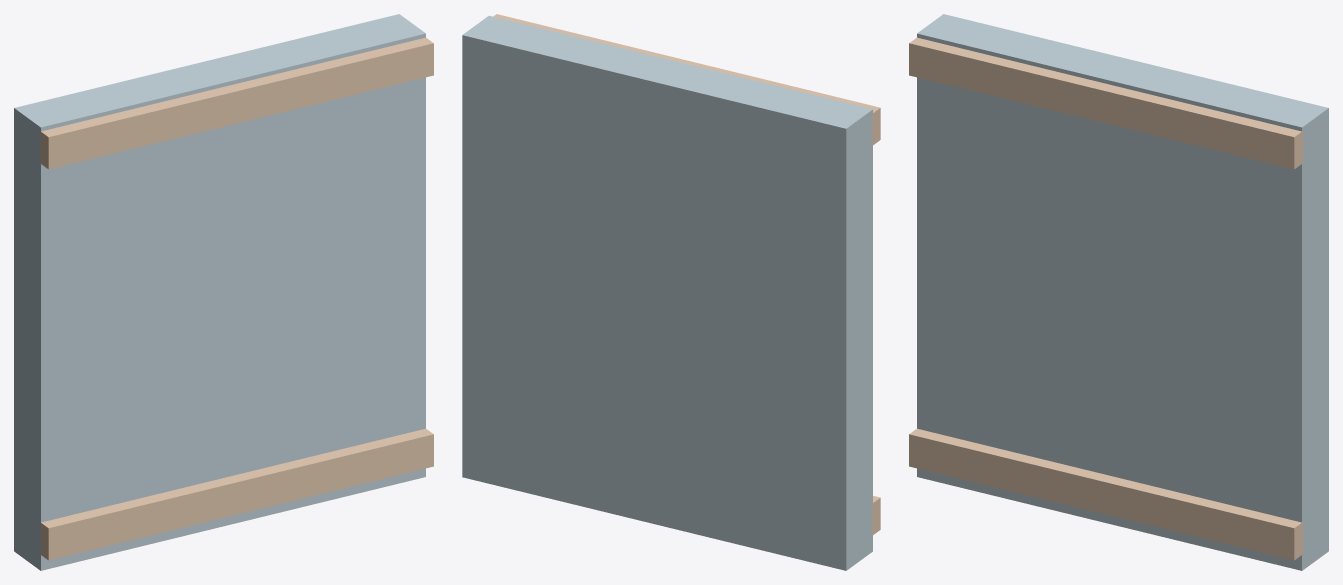
Rendered from wall-metal-solid.glb.
3 renders of one model, left to right at view 1: azimuth 30°, elevation 25°; view 2: azimuth 150°, elevation 25°; view 3: azimuth 330°, elevation 25°, orthographic.
Parts seen in each view (by area): view 1: panel, top_trim, trim; view 2: panel, top_trim; view 3: panel, top_trim, trim.
Boxes of the visible parts, bbox=[...] form: panel: bbox=[14, 14, 425, 570]; top_trim: bbox=[39, 37, 433, 169]; trim: bbox=[41, 428, 433, 560]; panel: bbox=[462, 15, 872, 570]; top_trim: bbox=[493, 14, 880, 145]; panel: bbox=[917, 14, 1328, 570]; top_trim: bbox=[909, 37, 1303, 169]; trim: bbox=[909, 428, 1303, 560].
Size of the model in its own units: 1 by 1.1 by 0.155.
